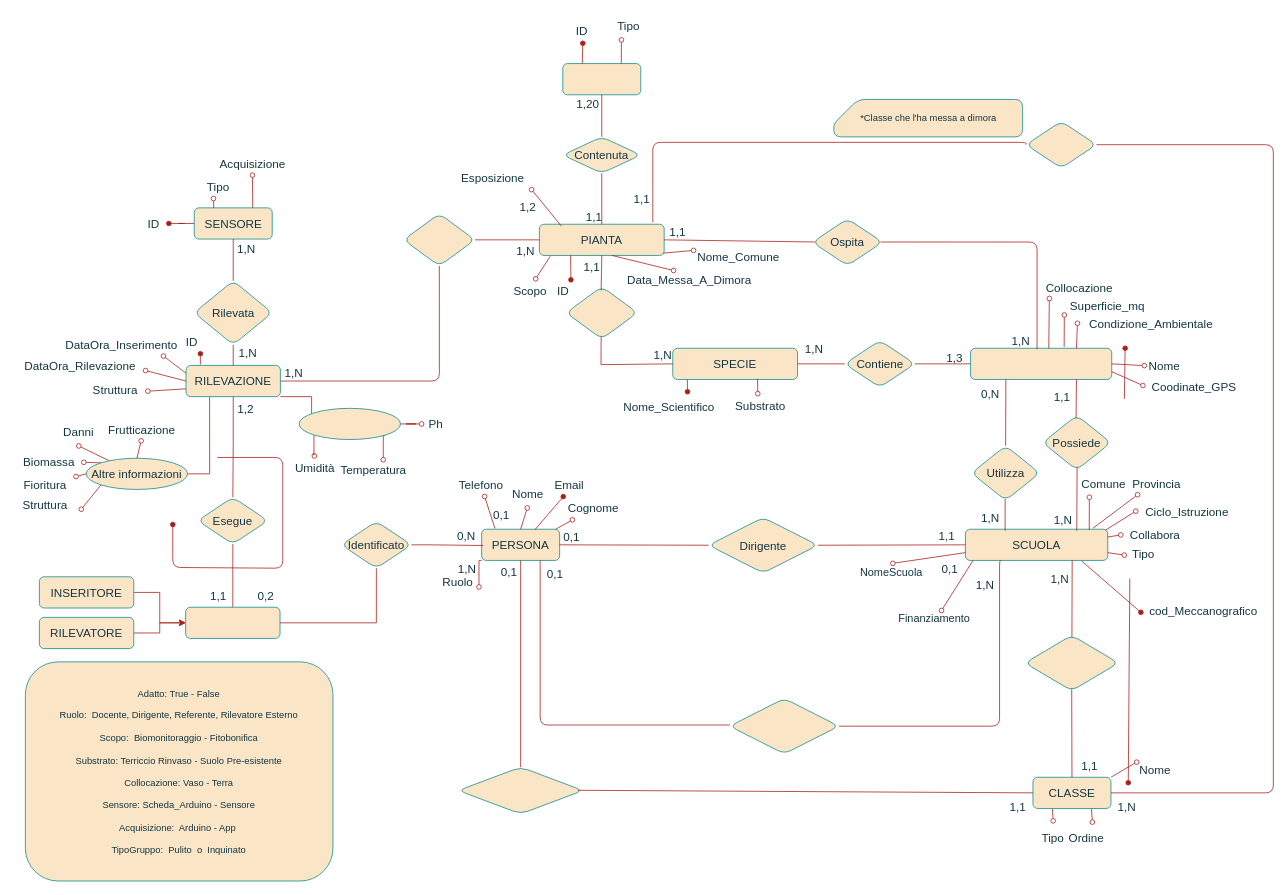
The diagram is 1288 pixels wide and 895 high, and some of its shapes have lost their labels. The box of each missing label's shape, as (x1, y1, x2, y2) in pixels:
Afferisce: (1024, 635, 1119, 691)
Coltiva*: (1025, 121, 1096, 168)
Effettuata: (403, 213, 475, 266)
GRUPPO: (562, 63, 641, 95)
Include: (565, 286, 637, 339)
ORTO: (970, 347, 1112, 379)
Parametri Suolo: (298, 408, 401, 440)
Rappresentata: (457, 766, 583, 814)
Referente: (729, 698, 839, 754)
RESPONSABILE: (185, 606, 280, 638)
